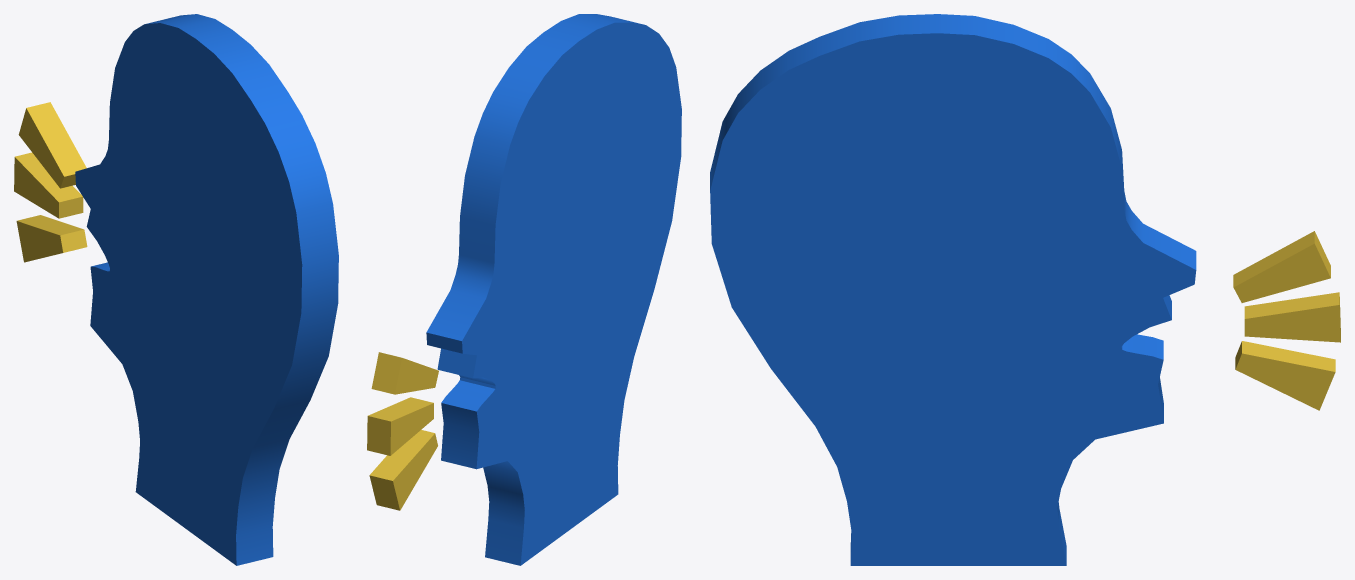
The model's file is Speaking Head.gltf.
3 views of the same model, side by side, from view 1: azimuth 30°, elevation 25°; view 2: azimuth 150°, elevation 25°; view 3: azimuth 270°, elevation 25° (orthographic). The views are drawn at different scales.
Parts seen in each view (by area): view 1: Speaking Head; view 2: Speaking Head; view 3: Speaking Head.
Boxes of the visible parts, bbox=[...] form: Speaking Head: bbox=[14, 14, 338, 565]; Speaking Head: bbox=[367, 14, 681, 565]; Speaking Head: bbox=[710, 14, 1340, 565].
Size of the model in its own units: 0.14 by 1.81 by 1.94.
